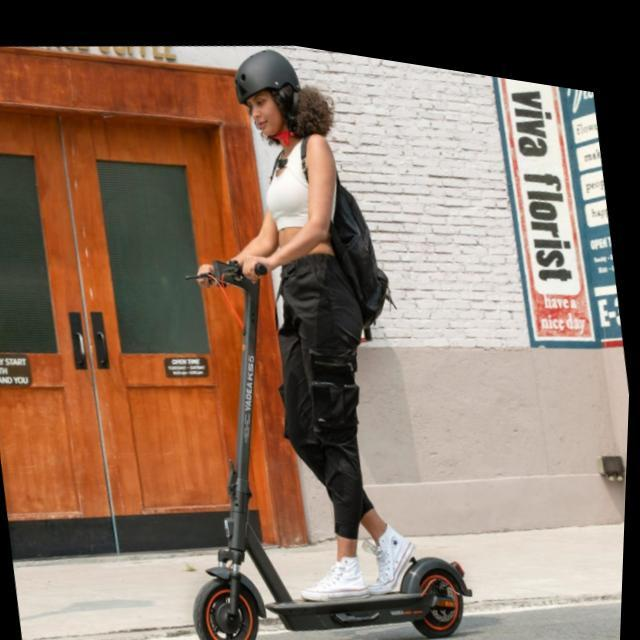Helmet: (228, 45, 308, 147)
